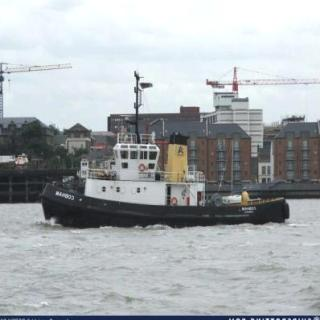Tug Boat: (43, 120, 290, 222)
